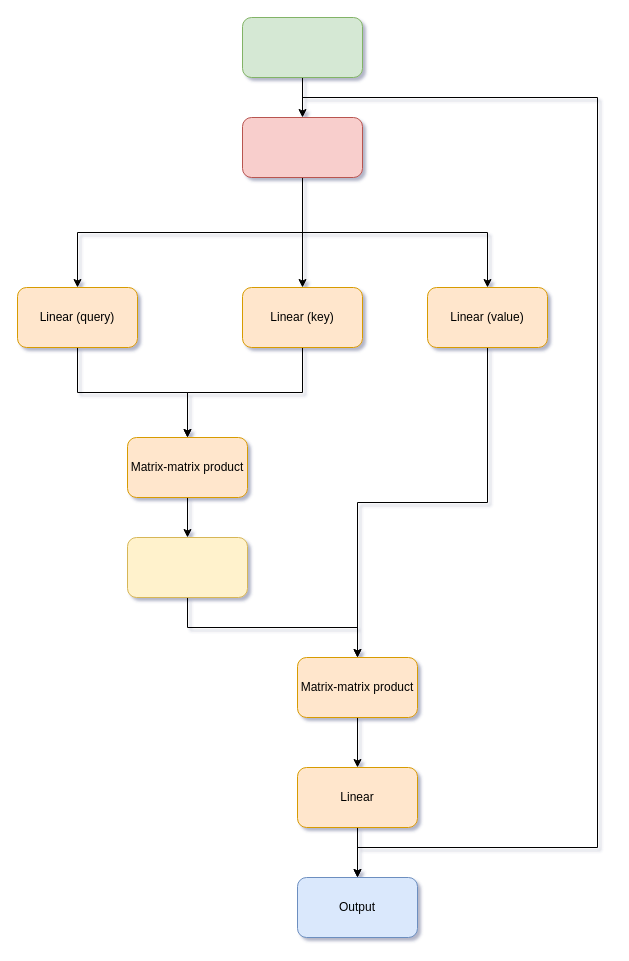
The diagram is 629 pixels wide and 961 high, and some of its shapes have lost their labels. Here are the shapes that lost their labels. From the top down, the box of each, then its label:
(242, 16, 362, 78): Input
(242, 116, 362, 178): GroupNorm
(126, 536, 248, 598): Softmax
